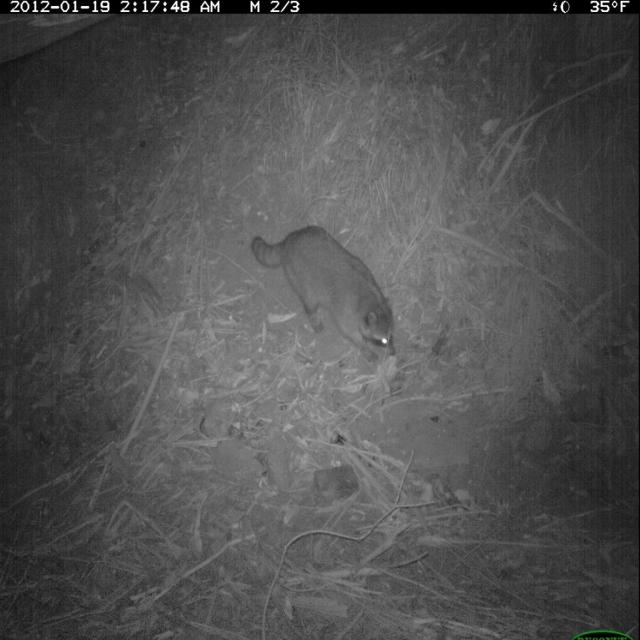raccoon: (246, 220, 409, 368)
